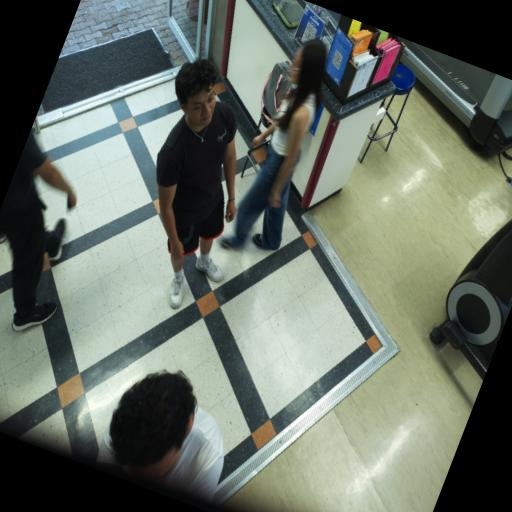person: (221, 40, 326, 250), (156, 59, 236, 308), (97, 371, 223, 502), (0, 132, 76, 331)
